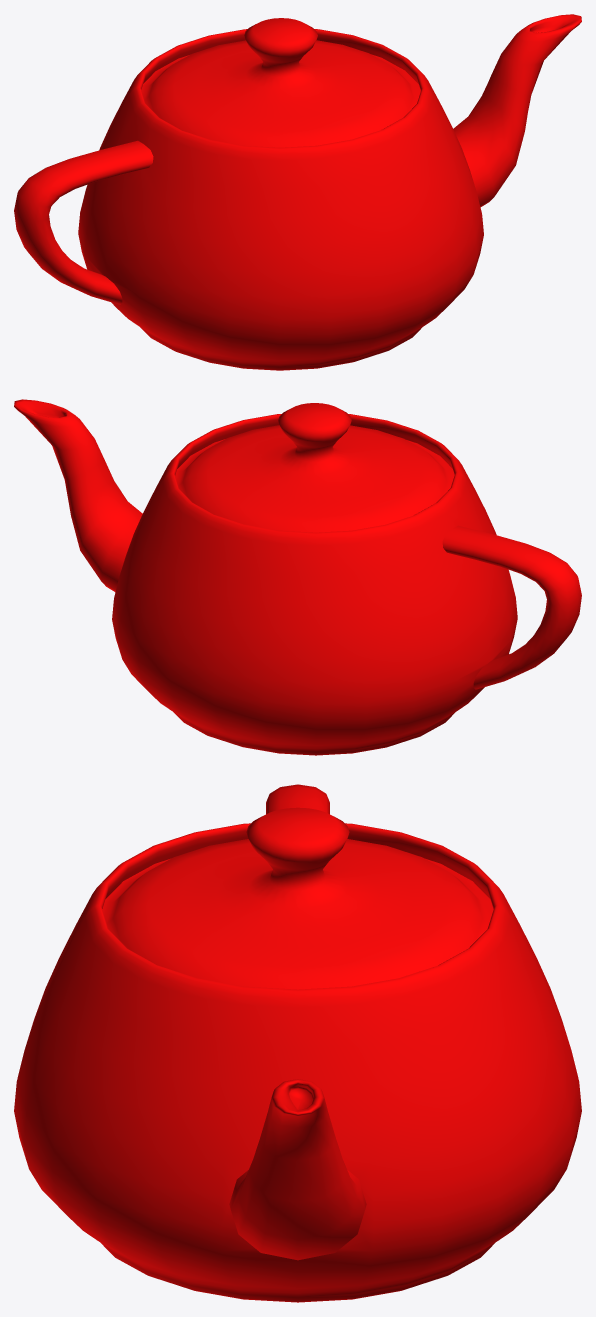
The model's file is utah_teapot.glb.
The picture shows the model from 3 angles, top to bottom: view 1: azimuth 30°, elevation 25°; view 2: azimuth 150°, elevation 25°; view 3: azimuth 270°, elevation 25°; orthographic projection. The views are drawn at different scales.
Parts seen in each view (by area): view 1: Object_2; view 2: Object_2; view 3: Object_2.
Boxes of the visible parts, box(x1,y1,x2,y2) form: Object_2: box(14, 14, 581, 370); Object_2: box(14, 399, 581, 755); Object_2: box(14, 784, 581, 1302).
Bounding box in the file's own units: 2.05 × 1.01 × 1.28.
